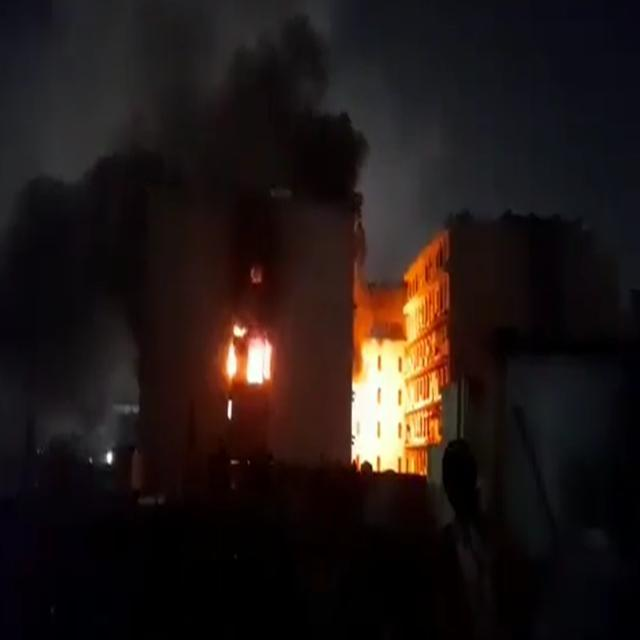Fire: (223, 316, 277, 394)
Smoke: (0, 42, 374, 418)
